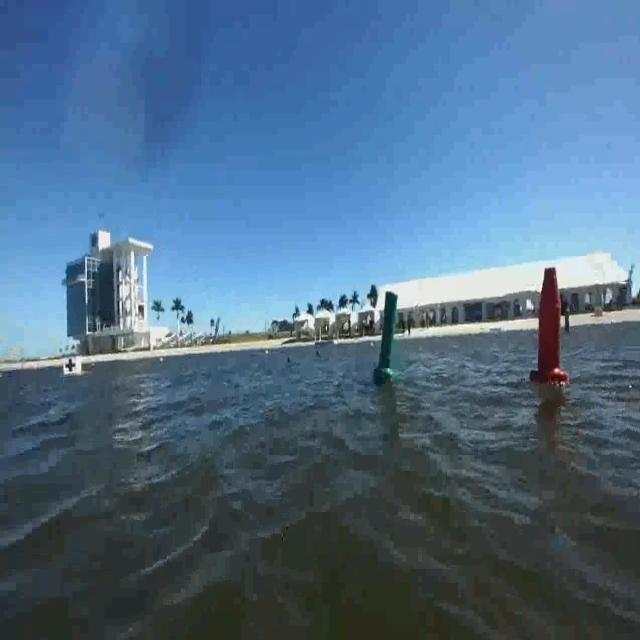green-column-buoy: (375, 286, 403, 382)
red-column-buoy: (530, 264, 568, 387)
